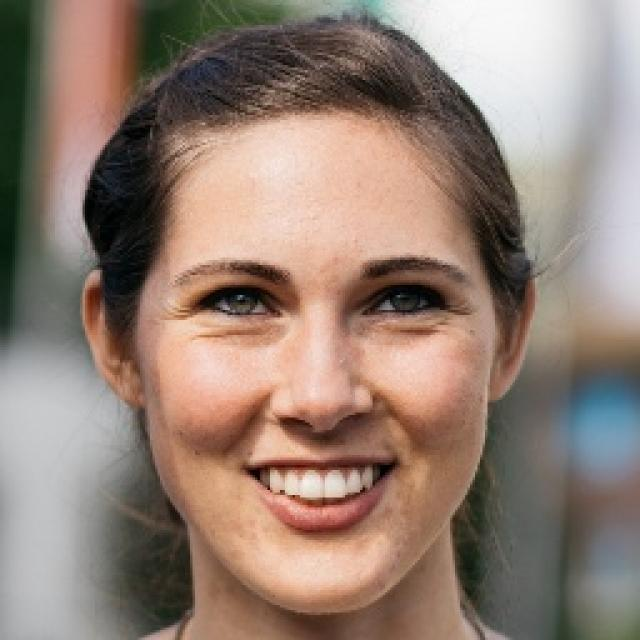earlobe: (485, 355, 517, 404), (112, 359, 143, 407)
eye: (362, 285, 440, 318), (196, 292, 283, 320)
nose: (270, 407, 371, 446)
wholeear: (81, 268, 144, 407), (485, 273, 539, 404)
